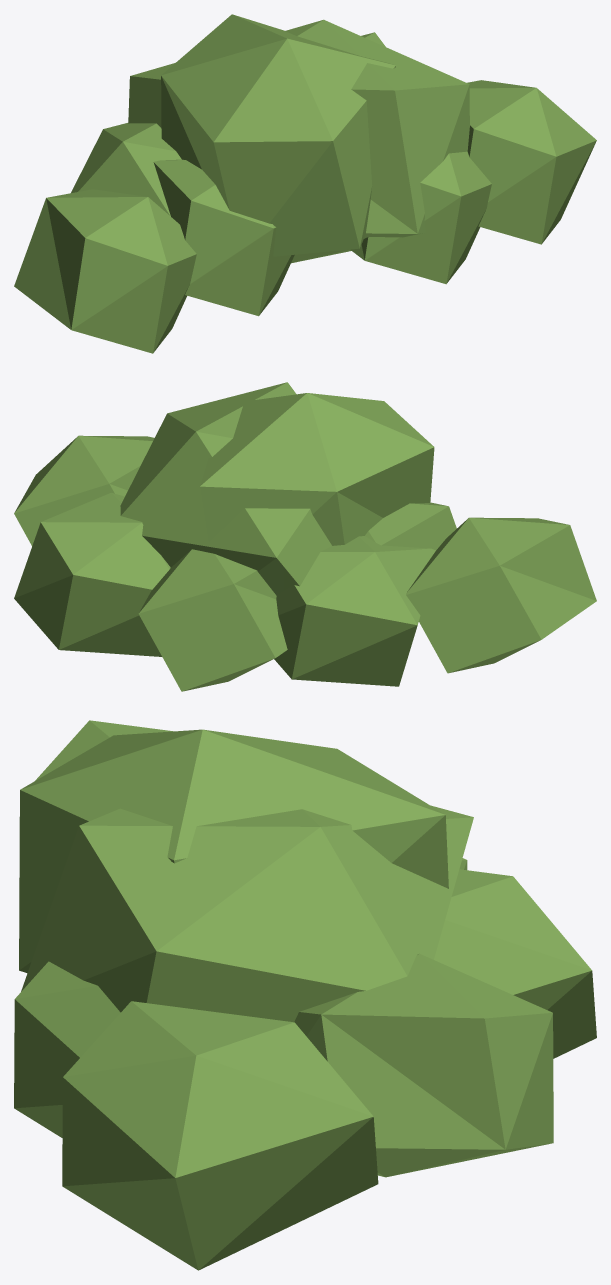
Rendered from Vegetation_Bush_Large_02.fbx.
The picture shows the model from 3 angles, top to bottom: view 1: azimuth 30°, elevation 25°; view 2: azimuth 150°, elevation 25°; view 3: azimuth 270°, elevation 25°; orthographic projection. The views are drawn at different scales.
Parts seen in each view (by area): view 1: Vegetation_Bush_Large_02; view 2: Vegetation_Bush_Large_02; view 3: Vegetation_Bush_Large_02.
Part boxes in pixels (box(x1,y1,x2,y2)): Vegetation_Bush_Large_02: box(14, 14, 596, 353); Vegetation_Bush_Large_02: box(14, 382, 596, 691); Vegetation_Bush_Large_02: box(14, 720, 596, 1270).
Size of the model in its own units: 2565 by 1072 by 1611.
